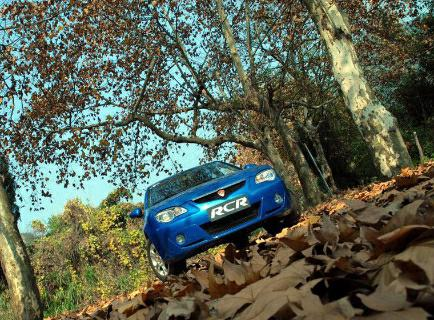莲花汽车-竞速: (122, 163, 300, 278)
